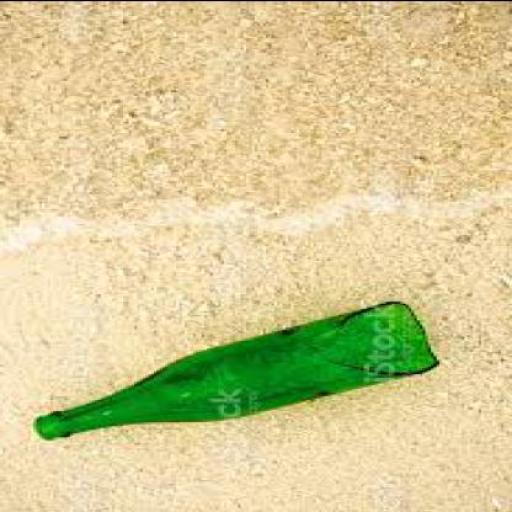glass: (33, 302, 437, 438)
